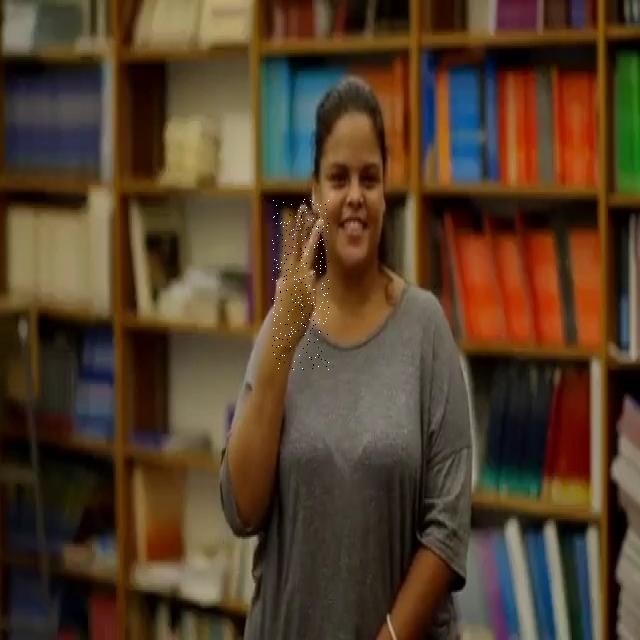vegetables: (272, 198, 329, 370)
